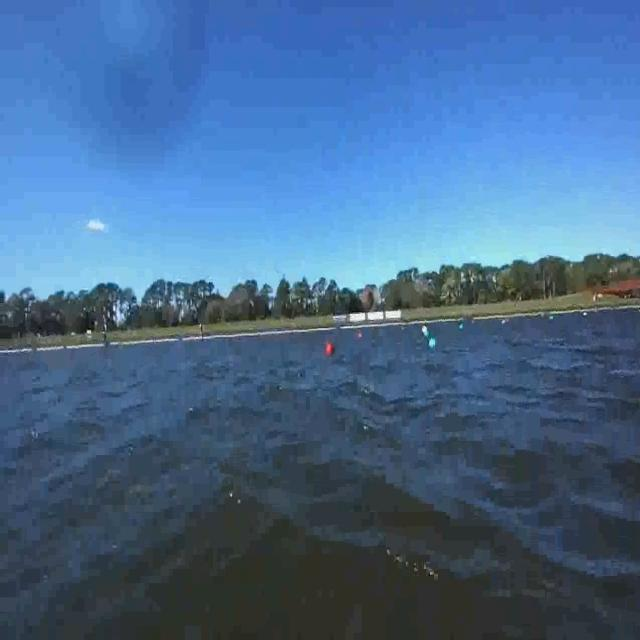green-buoy: (427, 335, 438, 352)
red-buoy: (326, 344, 334, 356)
